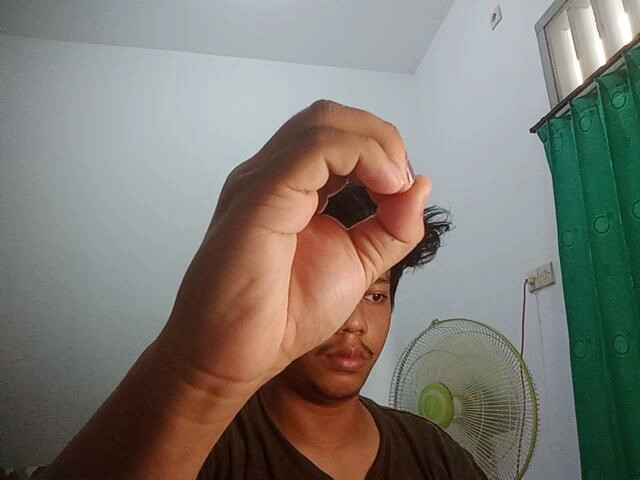O: (169, 89, 431, 385)
